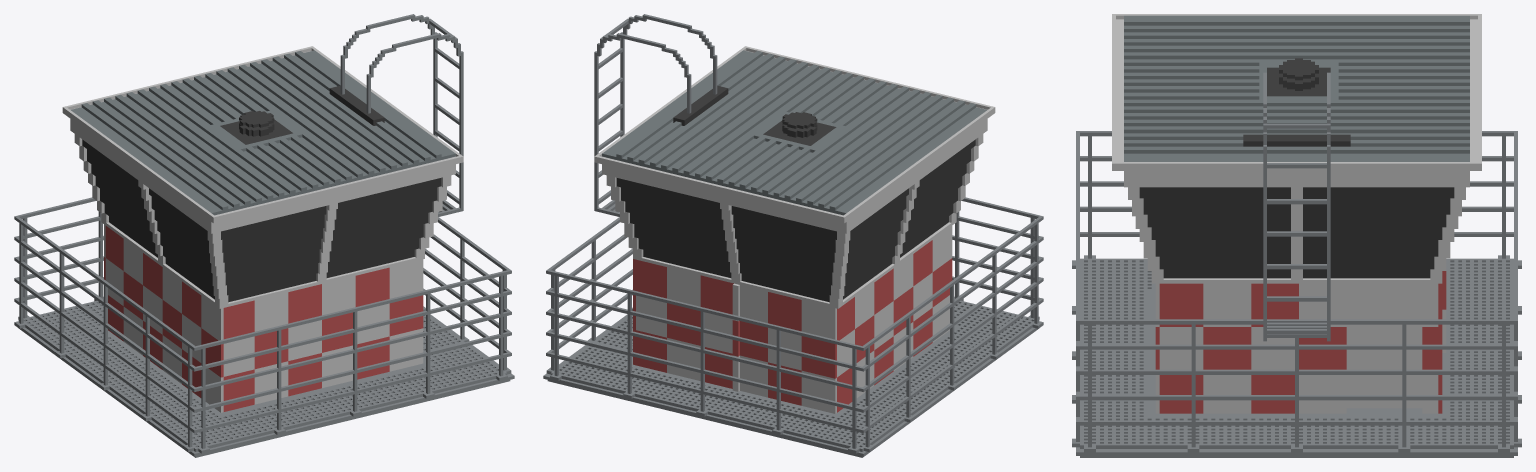
File: tower-1.obj
3 views of the same model, side by side, from view 1: azimuth 30°, elevation 25°; view 2: azimuth 150°, elevation 25°; view 3: azimuth 270°, elevation 25° (orthographic). The views are drawn at different scales.
Size of the model in its own units: 12.4 by 9.9 by 11.3.
1 material, 1 textured.
